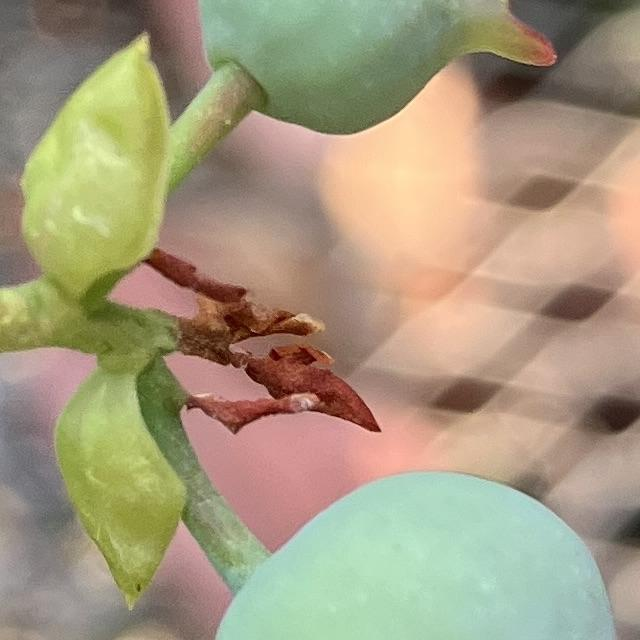Blueberries: (202, 464, 640, 640)
